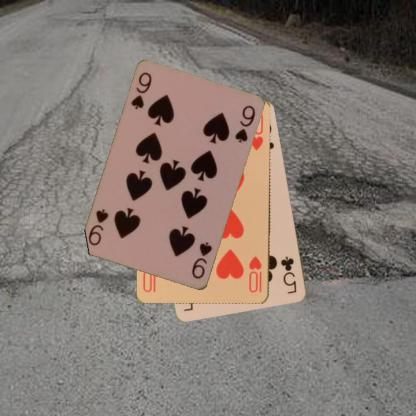10h: (247, 254, 264, 294)
5c: (279, 254, 298, 295)
9s: (189, 239, 214, 281), (129, 70, 153, 111)
